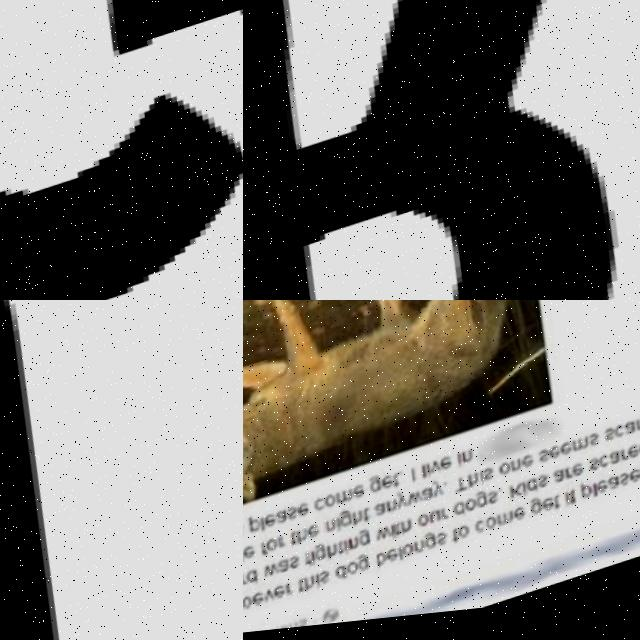A: (562, 475, 578, 493), (288, 560, 304, 577), (618, 484, 633, 501), (286, 510, 300, 528), (618, 459, 632, 476), (385, 507, 398, 522), (432, 493, 445, 508), (243, 574, 253, 591), (633, 428, 640, 446)
B: (386, 555, 401, 574)
C: (484, 525, 498, 542), (324, 499, 337, 516), (609, 463, 621, 478), (624, 434, 636, 449)
D: (347, 568, 362, 587), (259, 570, 274, 589), (464, 507, 478, 526), (537, 486, 551, 503), (243, 550, 256, 567)
E: (398, 551, 413, 568), (531, 462, 546, 479), (362, 487, 377, 504), (390, 479, 405, 496), (264, 592, 278, 609), (285, 586, 299, 603), (608, 487, 622, 504), (582, 470, 596, 487), (275, 514, 289, 531), (307, 504, 321, 521), (254, 547, 269, 562), (318, 528, 332, 543), (525, 513, 538, 528), (553, 505, 566, 520), (559, 454, 572, 469), (570, 451, 583, 466), (450, 461, 463, 476), (637, 454, 640, 469)
F: (316, 554, 326, 572), (270, 543, 281, 559)
G: (0, 0, 243, 300), (378, 479, 393, 500), (369, 532, 384, 552), (368, 558, 383, 577), (435, 538, 450, 557), (350, 514, 365, 533), (541, 506, 555, 525), (326, 546, 340, 565), (486, 497, 500, 516)
H: (315, 578, 329, 595), (338, 547, 352, 564), (412, 524, 426, 541), (306, 531, 320, 548), (477, 479, 491, 496), (243, 600, 256, 617), (362, 514, 375, 531)
I: (354, 543, 363, 559), (346, 520, 355, 536), (488, 477, 497, 492), (327, 576, 335, 592), (575, 500, 583, 516), (322, 553, 330, 569), (531, 489, 539, 505), (466, 459, 474, 475), (401, 529, 409, 544), (435, 469, 443, 484), (419, 473, 427, 488), (243, 553, 246, 569), (298, 627, 305, 632)
J: (0, 300, 153, 640)
K: (520, 490, 537, 509)
L: (408, 550, 419, 568), (430, 470, 439, 485), (271, 519, 279, 534), (603, 493, 609, 507)
M: (582, 445, 601, 462), (345, 492, 364, 509), (507, 518, 527, 534), (283, 628, 301, 633)
N: (396, 504, 410, 519), (424, 545, 437, 560), (359, 539, 372, 554), (334, 523, 347, 538), (471, 455, 484, 470), (521, 466, 533, 481), (301, 625, 313, 632)
O: (277, 540, 292, 556), (428, 518, 442, 533), (254, 597, 267, 612), (358, 565, 371, 580), (414, 548, 427, 563), (469, 531, 482, 546), (496, 523, 509, 538), (475, 504, 488, 519), (335, 497, 348, 512), (509, 470, 522, 484)
P: (591, 490, 606, 509), (258, 516, 272, 535)
R: (243, 0, 640, 300), (297, 586, 307, 600), (450, 514, 460, 528), (575, 474, 585, 488), (630, 457, 640, 471), (288, 538, 298, 552), (252, 574, 262, 587), (243, 528, 247, 541)
S: (598, 465, 612, 482), (297, 507, 311, 524), (243, 523, 256, 541), (331, 573, 344, 588), (447, 538, 460, 553), (300, 558, 313, 573), (497, 497, 510, 512), (493, 474, 506, 489), (613, 437, 626, 452), (548, 482, 560, 497), (548, 457, 560, 472), (599, 442, 611, 457), (630, 481, 640, 496), (311, 620, 323, 631)
T: (462, 482, 481, 500), (463, 533, 473, 551), (579, 498, 589, 516), (405, 527, 416, 543), (372, 512, 383, 528), (401, 478, 412, 494), (309, 581, 319, 597), (349, 545, 359, 561), (300, 534, 310, 550), (563, 504, 573, 519)
U: (440, 515, 453, 530)
V: (275, 589, 289, 606), (440, 465, 453, 480)
W: (274, 564, 293, 581), (385, 530, 404, 546), (417, 496, 436, 512)
Y: (405, 495, 420, 514), (441, 484, 455, 503)
